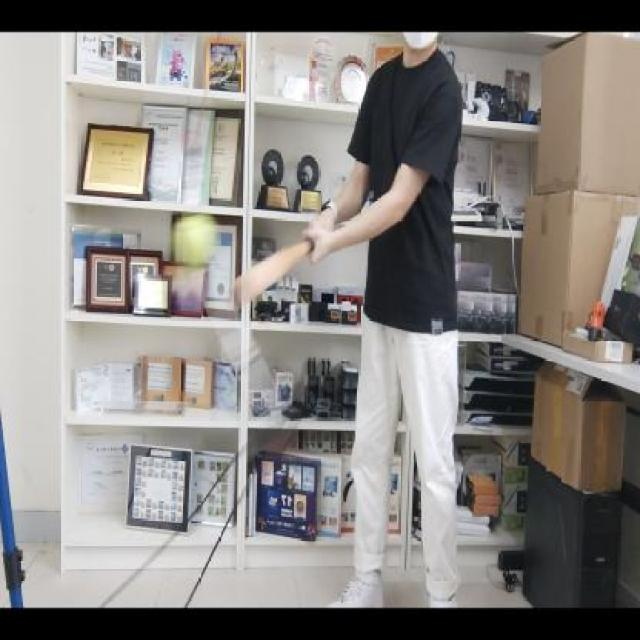baseball: (168, 209, 222, 273)
